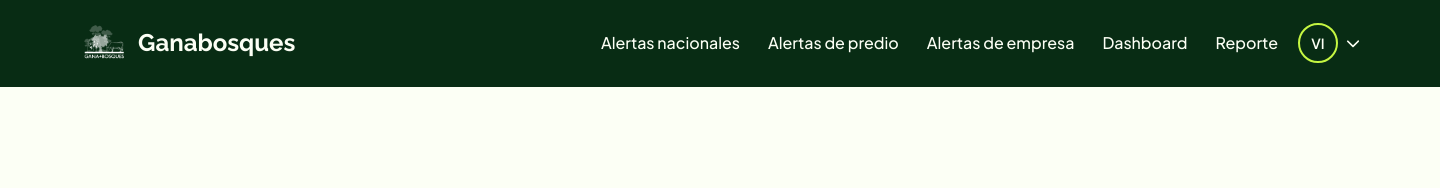
Test case: Header › user dropdown › renders an empty email when the account has none
Click the button "VI": (1329, 43) [1298,23,1360,63]
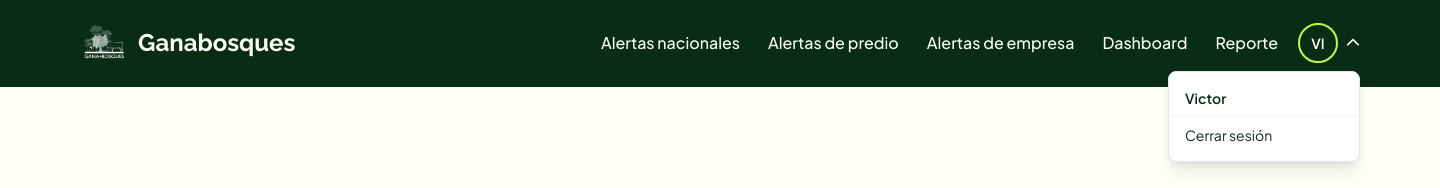
expect the text "Victor" is shown: met, box [1185,89,1226,107]
